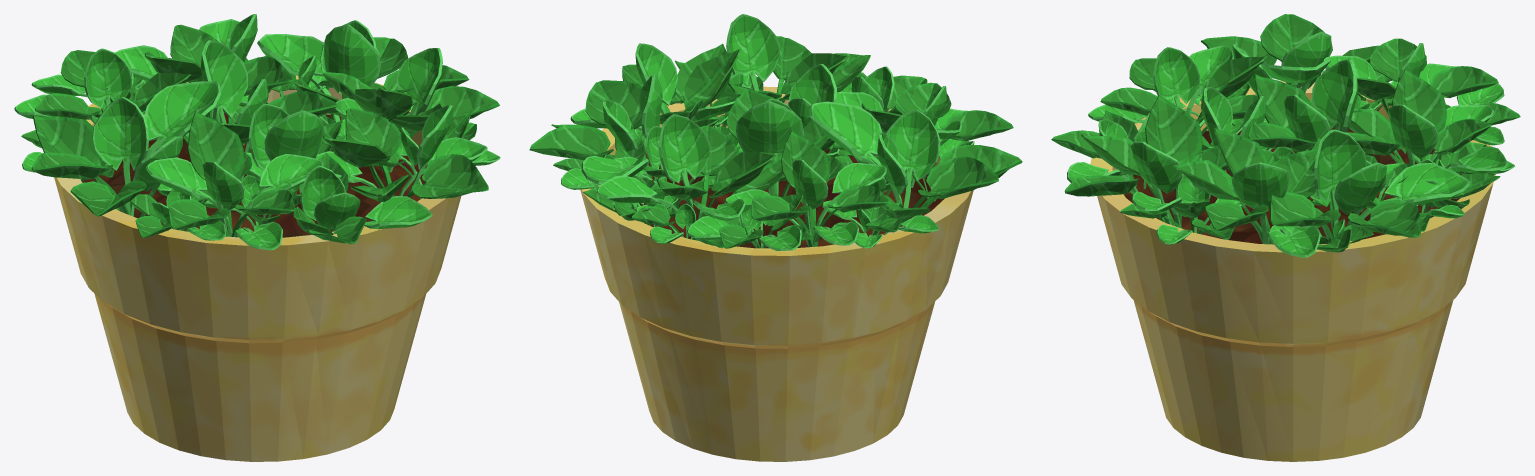
Rendered from Viola_Good_End.glb.
3 renders of one model, left to right at view 1: azimuth 30°, elevation 25°; view 2: azimuth 150°, elevation 25°; view 3: azimuth 270°, elevation 25°, orthographic. The views are drawn at different scales.
Parts seen in each view (by area): view 1: Plane.042, Pot.002; view 2: Plane.042, Pot.002; view 3: Plane.042, Pot.002.
Part boxes in pixels (<box>): Plane.042: <box>14,14,500,250</box>; Pot.002: <box>54,75,461,461</box>; Plane.042: <box>529,14,1022,250</box>; Pot.002: <box>580,86,973,461</box>; Plane.042: <box>1051,14,1520,257</box>; Pot.002: <box>1090,81,1495,461</box>.
Size of the model in its own units: 2.48 by 1.87 by 2.36.
Materials: 3 (3 with a texture image).
